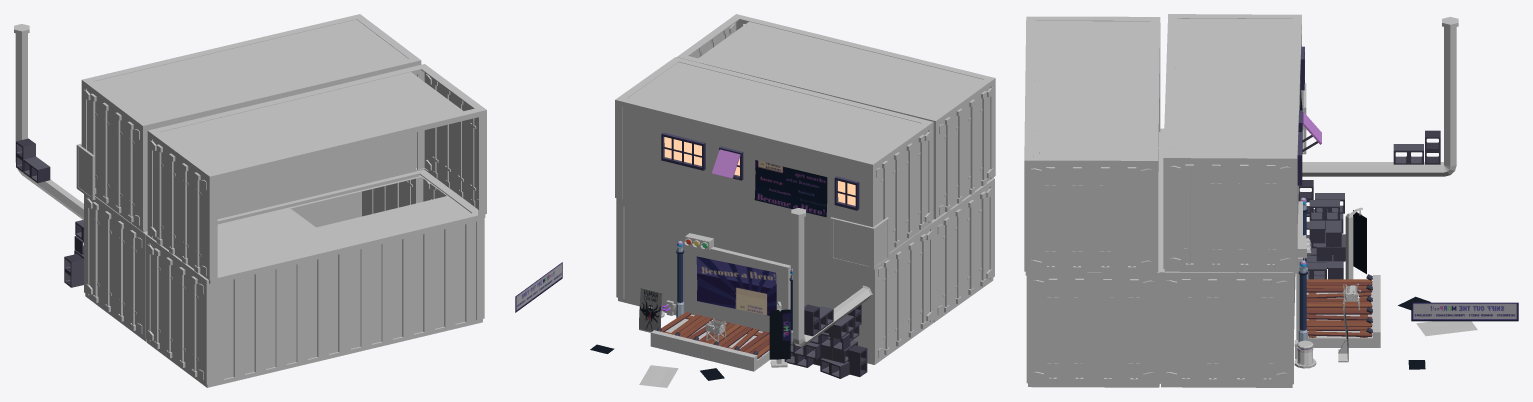
File: CMHauntedPark.fbx
3 renders of one model, left to right at view 1: azimuth 30°, elevation 25°; view 2: azimuth 150°, elevation 25°; view 3: azimuth 270°, elevation 25°, orthographic. The views are drawn at different scales.
Parts seen in each view (by area): view 1: BoxCrate.255, BoxCrate.064, BoxCrate.102, Pipes.006, planks.032, BarDecor.001, planks.034, planks.035; view 2: BoxCrate.102, BoxCrate.255, BoxCrate.064, FK_Stage, Poster.036, planks.032, Poster.028, BarDecor.001, Pipes.006, Window.194, Poster.035, HumanPoster.001 (+6 smaller); view 3: BoxCrate.102, BoxCrate.064, BoxCrate.255, FK_Stage, Pipes.006, planks.032, Poster.MorpCard.001, Poster.035, Poster.021, FK_Pole.002, PosterHanger, planks.034 (+3 smaller).
Part boxes in pixels (x1=…): BoxCrate.255: x1=84, y1=167, x2=484, y2=387; BoxCrate.064: x1=147, y1=64, x2=486, y2=283; BoxCrate.102: x1=81, y1=14, x2=421, y2=232; Pipes.006: x1=14, y1=24, x2=83, y2=220; planks.032: x1=64, y1=220, x2=83, y2=287; BarDecor.001: x1=76, y1=143, x2=95, y2=200; planks.034: x1=23, y1=156, x2=50, y2=182; planks.035: x1=16, y1=138, x2=35, y2=172; BoxCrate.102: x1=615, y1=57, x2=933, y2=254; BoxCrate.255: x1=616, y1=178, x2=994, y2=364; BoxCrate.064: x1=677, y1=14, x2=995, y2=219; FK_Stage: x1=650, y1=245, x2=790, y2=371; Poster.036: x1=696, y1=256, x2=776, y2=315; planks.032: x1=784, y1=297, x2=867, y2=378; Poster.028: x1=754, y1=160, x2=827, y2=217; BarDecor.001: x1=830, y1=217, x2=889, y2=269; Pipes.006: x1=791, y1=208, x2=872, y2=346; Window.194: x1=661, y1=132, x2=705, y2=170; Poster.035: x1=769, y1=309, x2=790, y2=359; HumanPoster.001: x1=639, y1=287, x2=662, y2=332; BoxCrate.102: x1=1163, y1=14, x2=1301, y2=273; BoxCrate.064: x1=1024, y1=16, x2=1160, y2=275; BoxCrate.255: x1=1026, y1=128, x2=1295, y2=387; FK_Stage: x1=1296, y1=201, x2=1380, y2=347; Pipes.006: x1=1302, y1=16, x2=1458, y2=176; planks.032: x1=1298, y1=180, x2=1345, y2=279; Poster.MorpCard.001: x1=1411, y1=302, x2=1518, y2=321; Poster.035: x1=1353, y1=210, x2=1366, y2=273; Poster.021: x1=1416, y1=321, x2=1477, y2=336; FK_Pole.002: x1=1298, y1=260, x2=1307, y2=341; PosterHanger: x1=1345, y1=207, x2=1362, y2=279; planks.034: x1=1393, y1=144, x2=1423, y2=164.
Bounding box in the file's own units: 2472 × 1805 × 3517.
